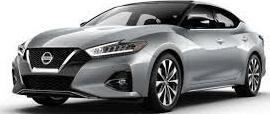Crossovers: (14, 2, 267, 112)
